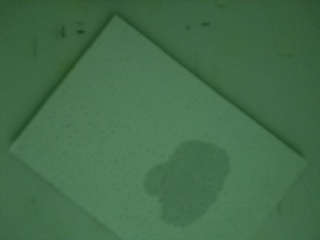Water_detected: (157, 151, 217, 212)
